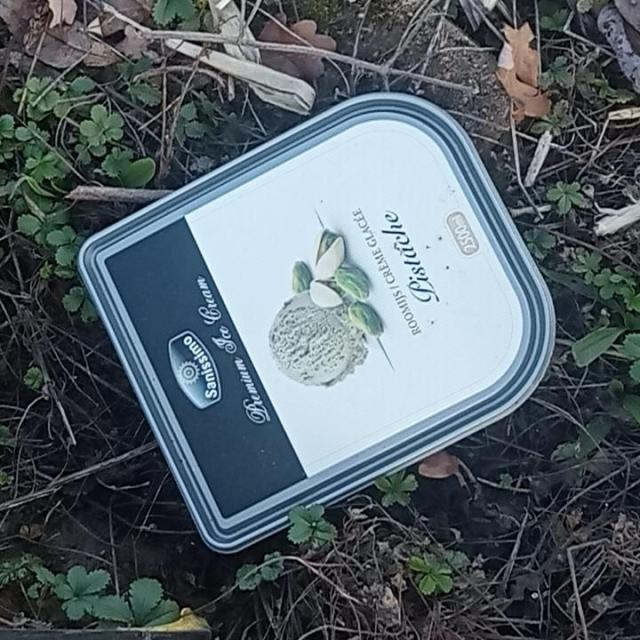Paper: (76, 88, 559, 560)
